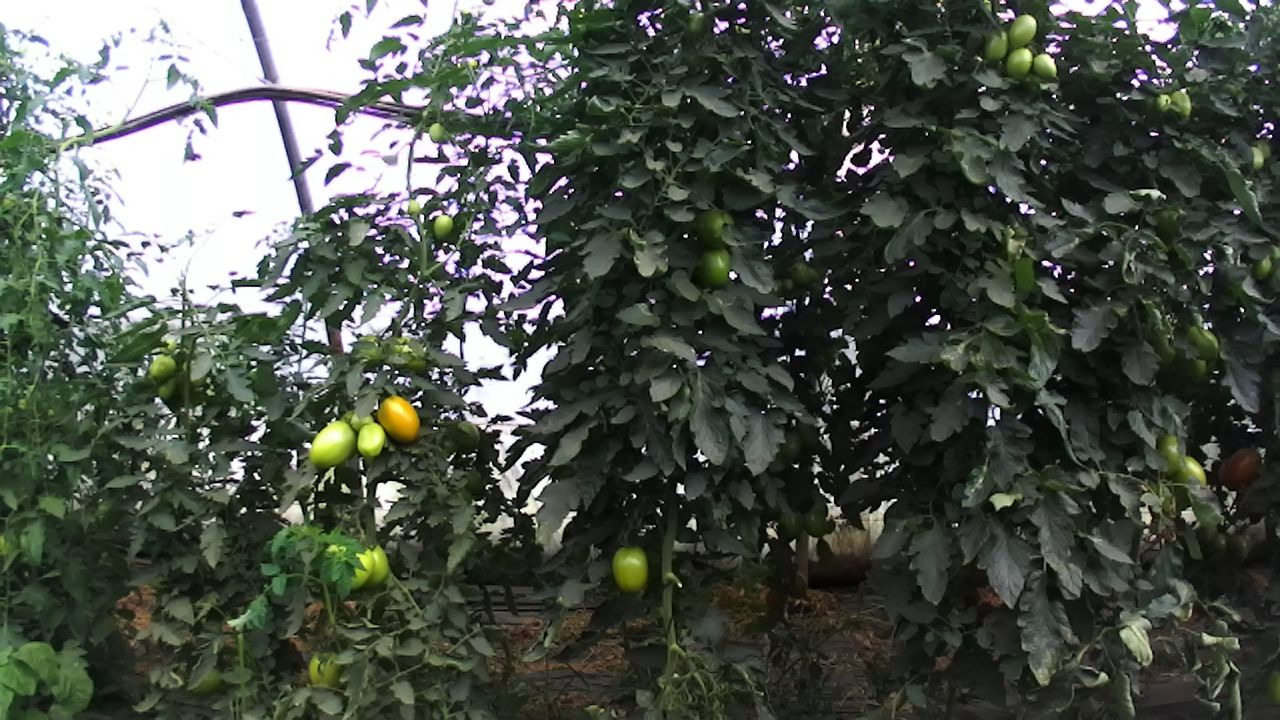tomato: (306, 416, 360, 470), (374, 393, 422, 447), (609, 542, 651, 596), (1216, 445, 1261, 490), (694, 204, 736, 251), (697, 244, 734, 292), (1182, 322, 1223, 364), (305, 647, 343, 690), (354, 420, 387, 459), (1006, 11, 1039, 49), (1003, 45, 1035, 78), (980, 28, 1010, 62), (146, 352, 178, 383), (1031, 52, 1059, 83), (778, 507, 803, 541), (801, 507, 827, 538), (1226, 532, 1250, 564), (431, 213, 455, 242), (1247, 142, 1265, 171), (428, 121, 445, 145)
